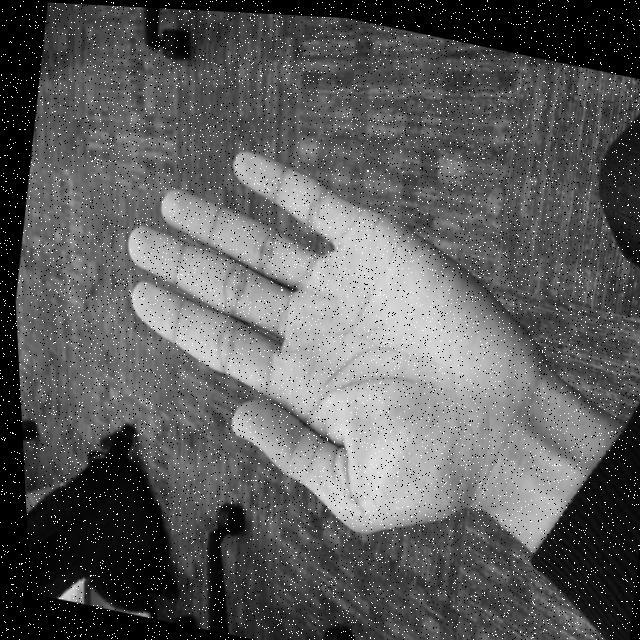no-gloves: (80, 120, 578, 566)
